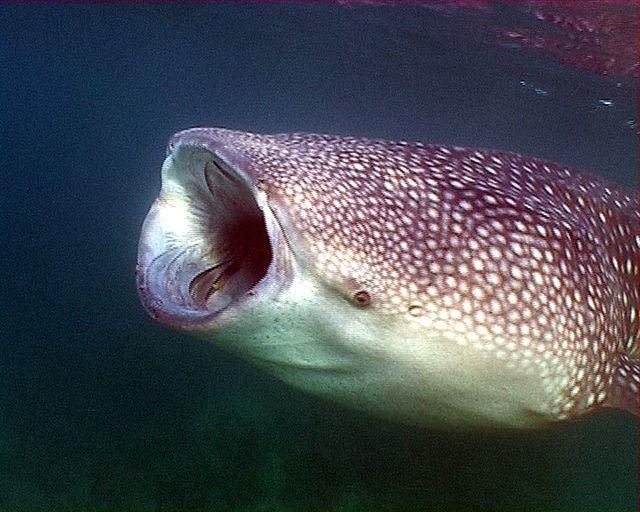Rhincodon_typusw: (118, 93, 640, 452)
